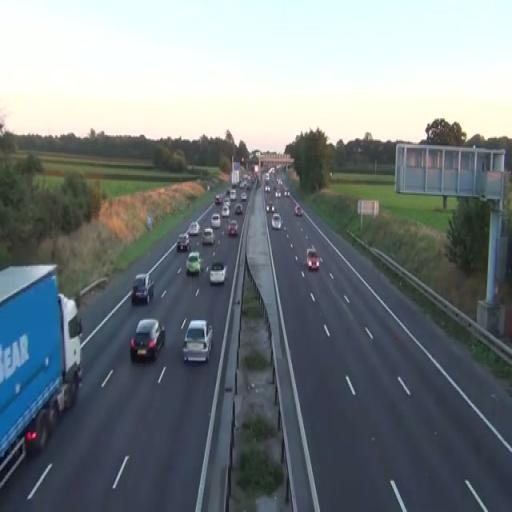Car: (130, 317, 166, 361), (182, 320, 214, 364), (132, 273, 154, 306), (186, 250, 204, 276), (209, 261, 227, 285), (306, 247, 320, 271), (177, 233, 190, 251), (226, 218, 238, 237), (204, 228, 214, 244), (272, 214, 282, 230), (211, 213, 220, 228)
Truck: (0, 263, 82, 489)
